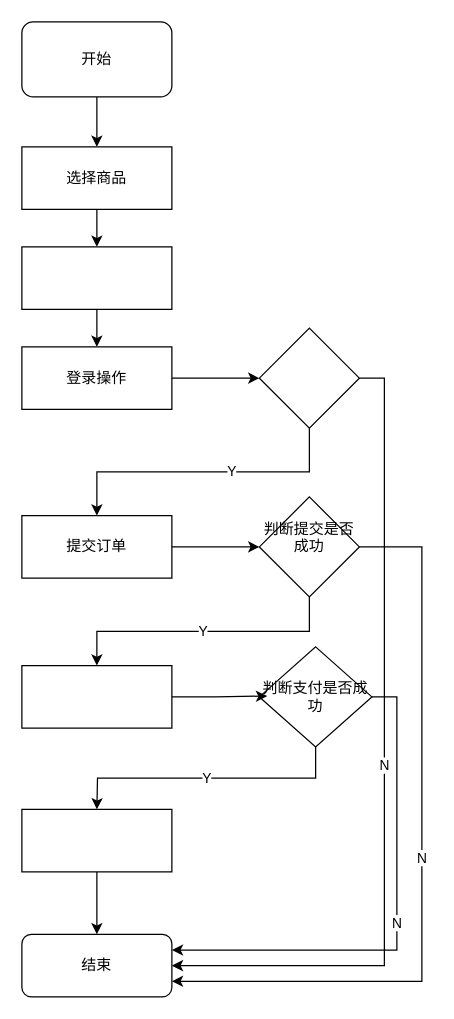
Some shapes in this 454 by 1019 pixel diagram are drawn without their labels. Here are the shapes that lost their labels. From the top down, the centre of each, then its label:
At (96,277): "添加购物车".
At (308,377): "判断登录成功".
At (96,696): "支付操作".
At (96,840): "支付成功，完成支付".
